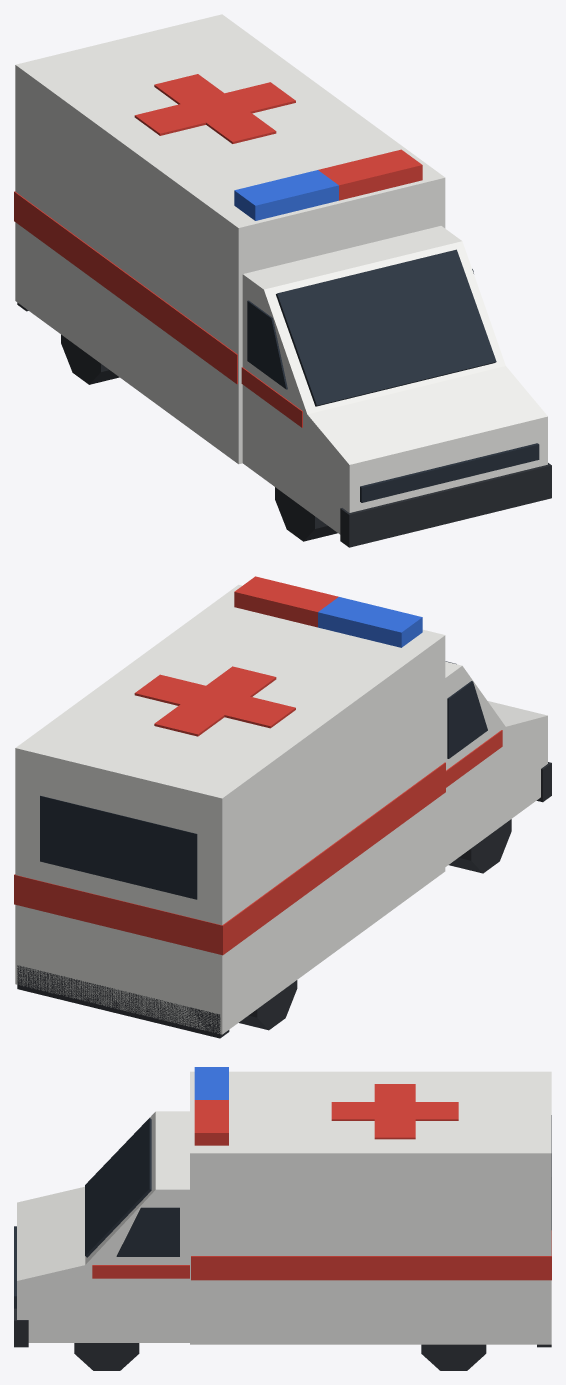
Rendered from ambulance.glb.
3 renders of one model, top to bottom at view 1: azimuth 30°, elevation 25°; view 2: azimuth 150°, elevation 25°; view 3: azimuth 270°, elevation 25°, orthographic. The views are drawn at different scales.
Parts seen in each view (by area): view 1: paint, glass, trim, dark, lights; view 2: paint, trim, glass, dark, lights; view 3: paint, trim, glass, dark, lights.
Boxes of the visible parts, bbox=[...] form: paint: bbox=[15, 14, 547, 534]; glass: bbox=[247, 249, 539, 502]; trim: bbox=[14, 74, 422, 427]; dark: bbox=[17, 302, 551, 547]; lights: bbox=[234, 170, 338, 220]; paint: bbox=[15, 584, 547, 1034]; trim: bbox=[14, 576, 502, 955]; glass: bbox=[40, 661, 487, 899]; dark: bbox=[17, 762, 551, 1038]; lights: bbox=[318, 597, 422, 647]; paint: bbox=[17, 1071, 551, 1344]; trim: bbox=[92, 1084, 551, 1280]; glass: bbox=[14, 1115, 551, 1308]; dark: bbox=[14, 1308, 551, 1370]; lights: bbox=[194, 1067, 228, 1099].
Bounding box in the file's own units: 2 × 2.62 × 5.51.
